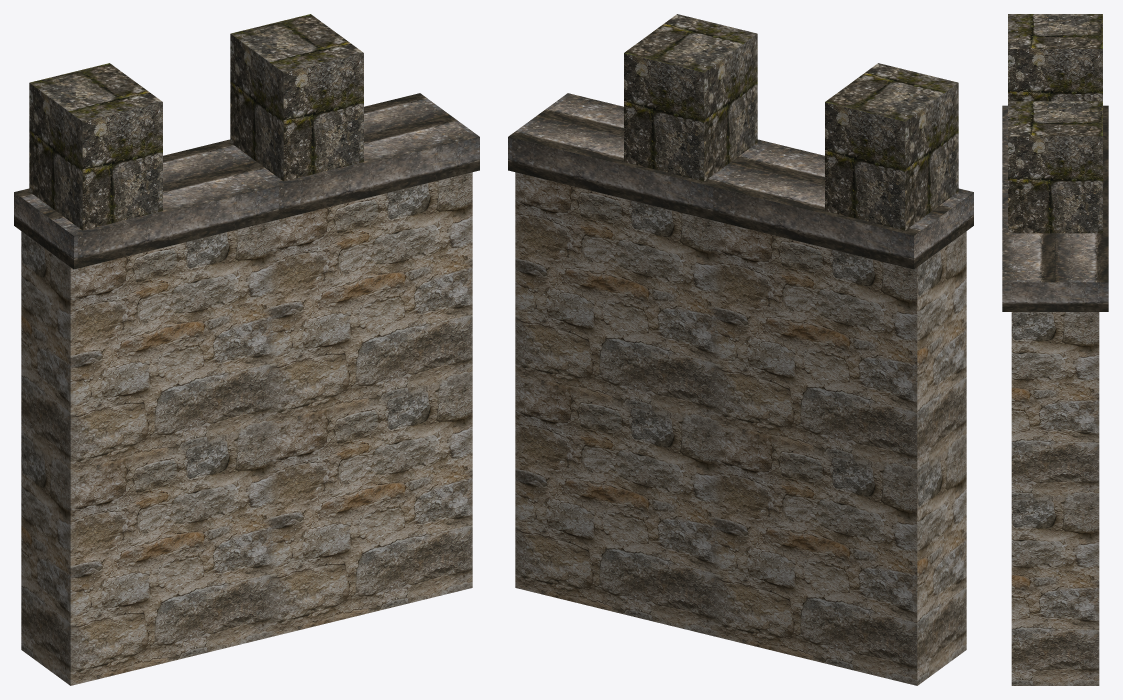
File: mauer_zinnen_4m.glb
3 renders of one model, left to right at view 1: azimuth 30°, elevation 25°; view 2: azimuth 150°, elevation 25°; view 3: azimuth 270°, elevation 25°, orthographic. The views are drawn at different scales.
Visible parts, largest first — view 1: part_tuffmauer_moertel, part_tuffstein_moosig, part_treppenstein_abgelaufen; view 2: part_tuffmauer_moertel, part_tuffstein_moosig, part_treppenstein_abgelaufen; view 3: part_tuffmauer_moertel, part_tuffstein_moosig, part_treppenstein_abgelaufen.
Boxes of the visible parts, box(x1,y1,x2,y2) form: part_tuffmauer_moertel: box(21, 172, 472, 685); part_tuffstein_moosig: box(29, 14, 363, 230); part_treppenstein_abgelaufen: box(14, 93, 479, 269); part_tuffmauer_moertel: box(515, 172, 966, 685); part_tuffstein_moosig: box(624, 14, 958, 230); part_treppenstein_abgelaufen: box(508, 93, 973, 269); part_tuffmauer_moertel: box(1011, 312, 1099, 685); part_tuffstein_moosig: box(1008, 14, 1102, 233); part_treppenstein_abgelaufen: box(1002, 105, 1108, 311).
Bounding box in the file's own units: 4.04 × 5.36 × 1.03.
Materials: 3 (3 with a texture image).
